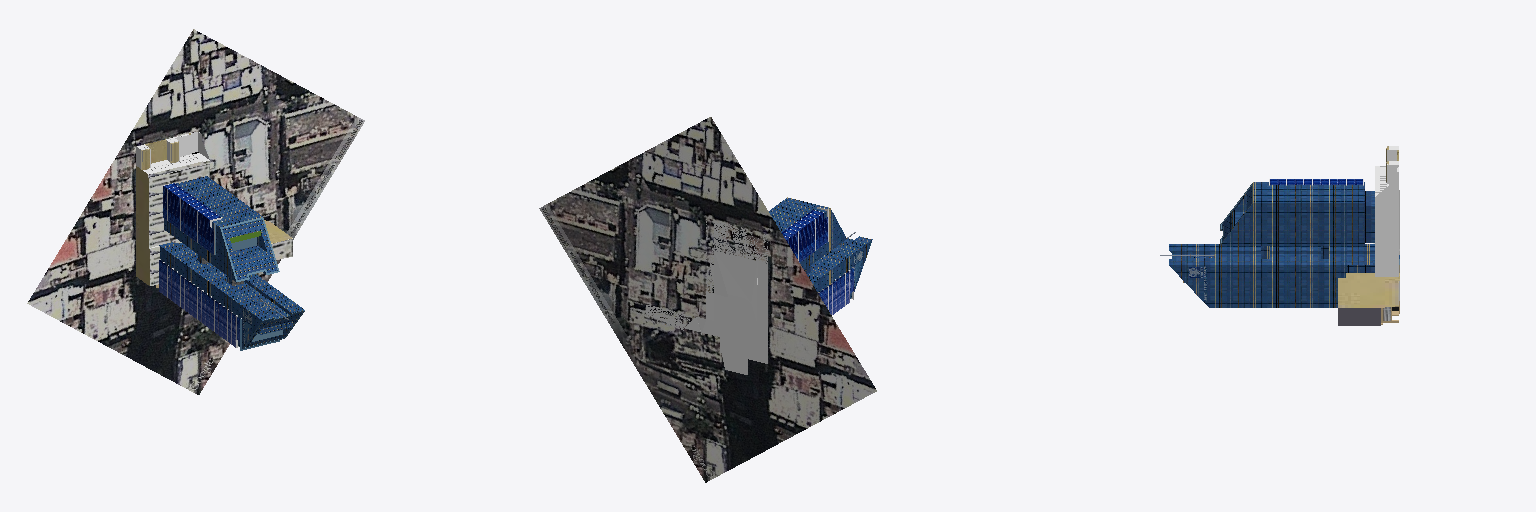
3 views of the same model, side by side, from view 1: azimuth 30°, elevation 25°; view 2: azimuth 150°, elevation 25°; view 3: azimuth 270°, elevation 25° (orthographic).
Parts seen in each view (by area): view 1: Mesh3 Google_Earth_Snapshot Model, Mesh7 Model; view 2: Mesh3 Google_Earth_Snapshot Model, Mesh7 Model; view 3: Mesh7 Model.
Boxes of the visible parts, <box> form: Mesh3 Google_Earth_Snapshot Model: <box>27,29,364,394</box>; Mesh7 Model: <box>136,132,304,350</box>; Mesh3 Google_Earth_Snapshot Model: <box>539,117,876,482</box>; Mesh7 Model: <box>646,197,872,374</box>; Mesh7 Model: <box>1160,146,1399,325</box>.
Size of the model in its own units: 164 by 171 by 101.
64 materials, 33 textured.